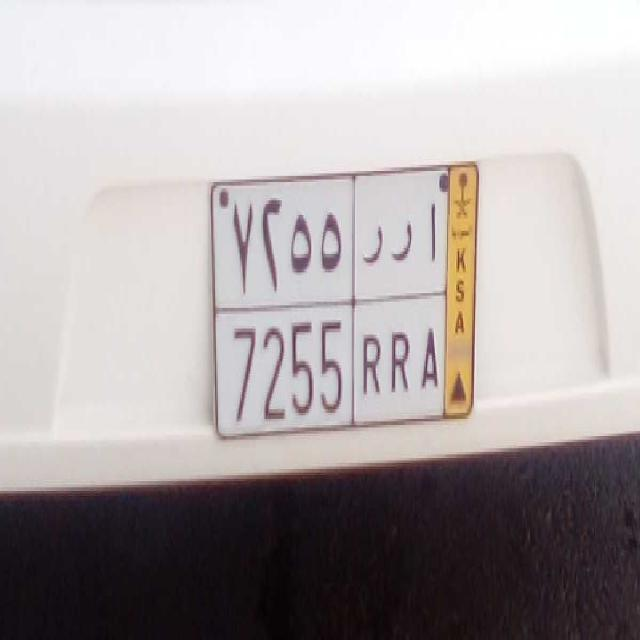license_plate: (212, 307, 449, 433)
